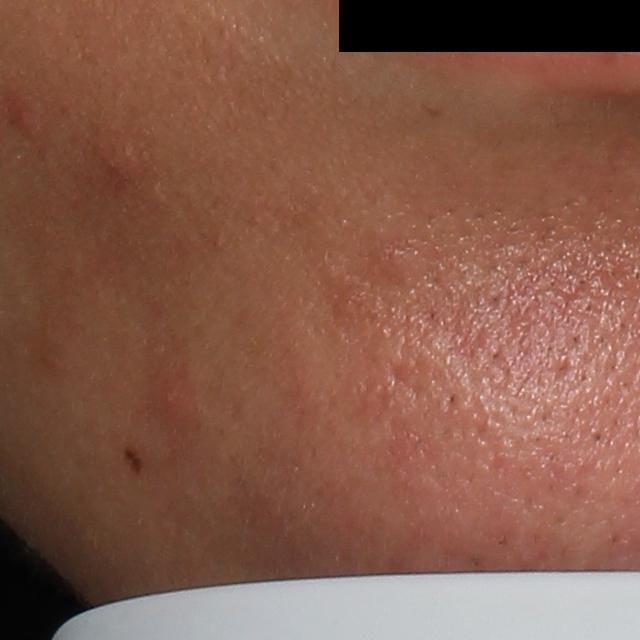nevus: (123, 445, 147, 477)
papule: (97, 133, 147, 185), (148, 370, 190, 425), (7, 98, 44, 141), (369, 243, 407, 275)
